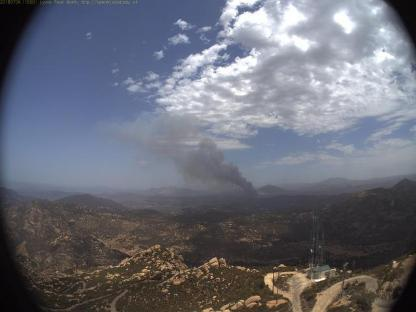smoke: (116, 109, 262, 201)
